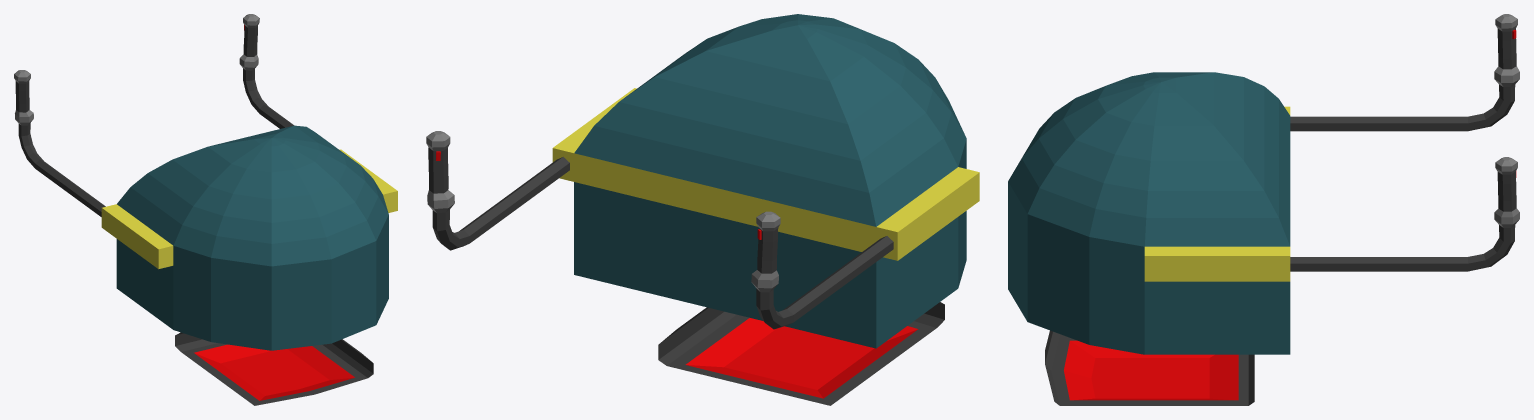
The model's file is jetpack4.fbx.
3 views of the same model, side by side, from view 1: azimuth 30°, elevation 25°; view 2: azimuth 150°, elevation 25°; view 3: azimuth 270°, elevation 25° (orthographic). The views are drawn at different scales.
Visible parts, largest first — view 1: JetPack; view 2: JetPack; view 3: JetPack.
Boxes of the visible parts, x1,y1,x2,y2 form: JetPack: (14,14,397,405); JetPack: (426,14,979,405); JetPack: (1008,14,1519,405).
Bounding box in the file's own units: 91.99 × 84.06 × 132.
